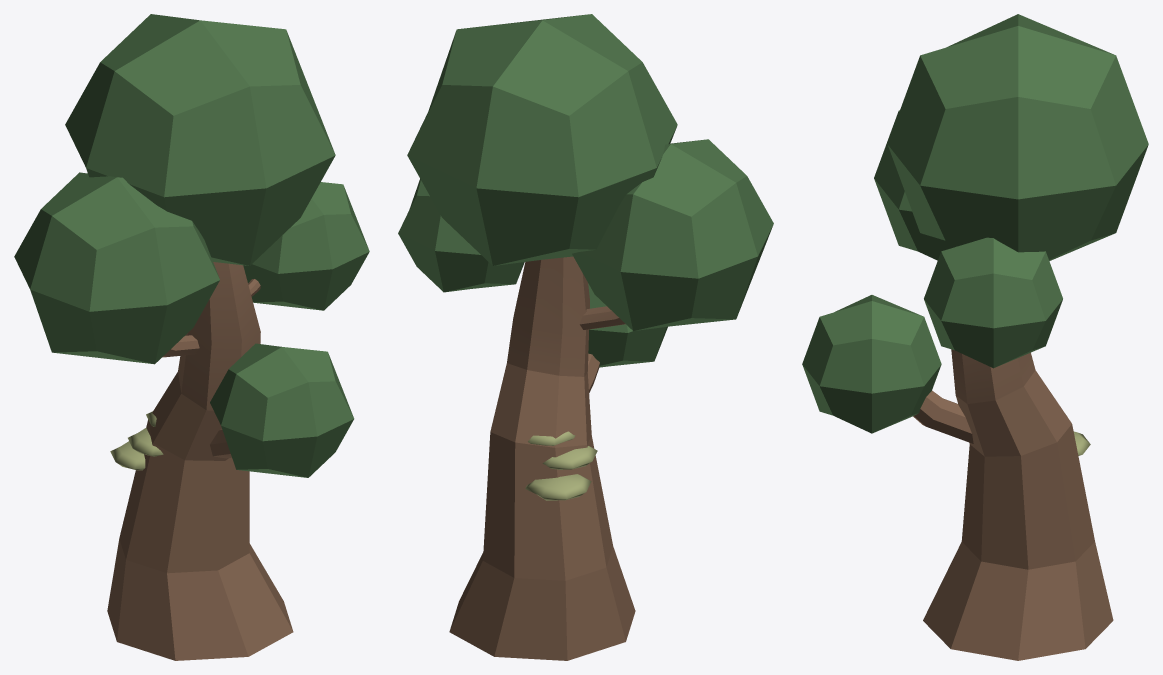
File: atoll_deciduousTree_03.fbx
3 renders of one model, left to right at view 1: azimuth 30°, elevation 25°; view 2: azimuth 150°, elevation 25°; view 3: azimuth 270°, elevation 25°, orthographic.
Visible parts, largest first — view 1: pCube1, pCylinder1, pCube3, pCube4, pCube2, pCube7, pCube5; view 2: pCube1, pCylinder1, pCube3, pCube2, pCube4, pCube7, pCube5, pCylinder3; view 3: pCube1, pCylinder1, pCube4, pCube2, pCube3, pCylinder2.
Boxes of the visible parts, x1=… form: pCube1: x1=65, y1=14, x2=335, y2=265; pCylinder1: x1=107, y1=262, x2=293, y2=660; pCube3: x1=14, y1=172, x2=219, y2=364; pCube4: x1=210, y1=343, x2=354, y2=477; pCube2: x1=243, y1=182, x2=369, y2=310; pCube7: x1=110, y1=441, x2=145, y2=470; pCube5: x1=128, y1=428, x2=163, y2=456; pCube1: x1=407, y1=14, x2=677, y2=265; pCylinder1: x1=449, y1=256, x2=635, y2=660; pCube3: x1=572, y1=139, x2=773, y2=330; pCube2: x1=398, y1=179, x2=524, y2=292; pCube4: x1=588, y1=283, x2=667, y2=367; pCube7: x1=525, y1=474, x2=591, y2=500; pCube5: x1=542, y1=446, x2=597, y2=469; pCylinder3: x1=579, y1=306, x2=625, y2=329; pCube1: x1=887, y1=14, x2=1148, y2=260; pCylinder1: x1=923, y1=349, x2=1113, y2=660; pCube4: x1=802, y1=295, x2=941, y2=433; pCube2: x1=924, y1=237, x2=1062, y2=368; pCube3: x1=874, y1=110, x2=956, y2=260; pCylinder2: x1=913, y1=390, x2=973, y2=443.
Size of the model in its own units: 538 by 913 by 482.
